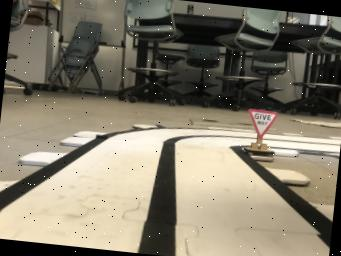give_way: (243, 109, 277, 162), (243, 109, 277, 162), (243, 109, 277, 162), (243, 109, 277, 162), (243, 109, 277, 162), (243, 109, 277, 162)
street: (0, 129, 332, 256), (0, 129, 332, 256), (0, 129, 332, 256), (0, 129, 332, 256), (0, 129, 332, 256), (0, 129, 332, 256)
